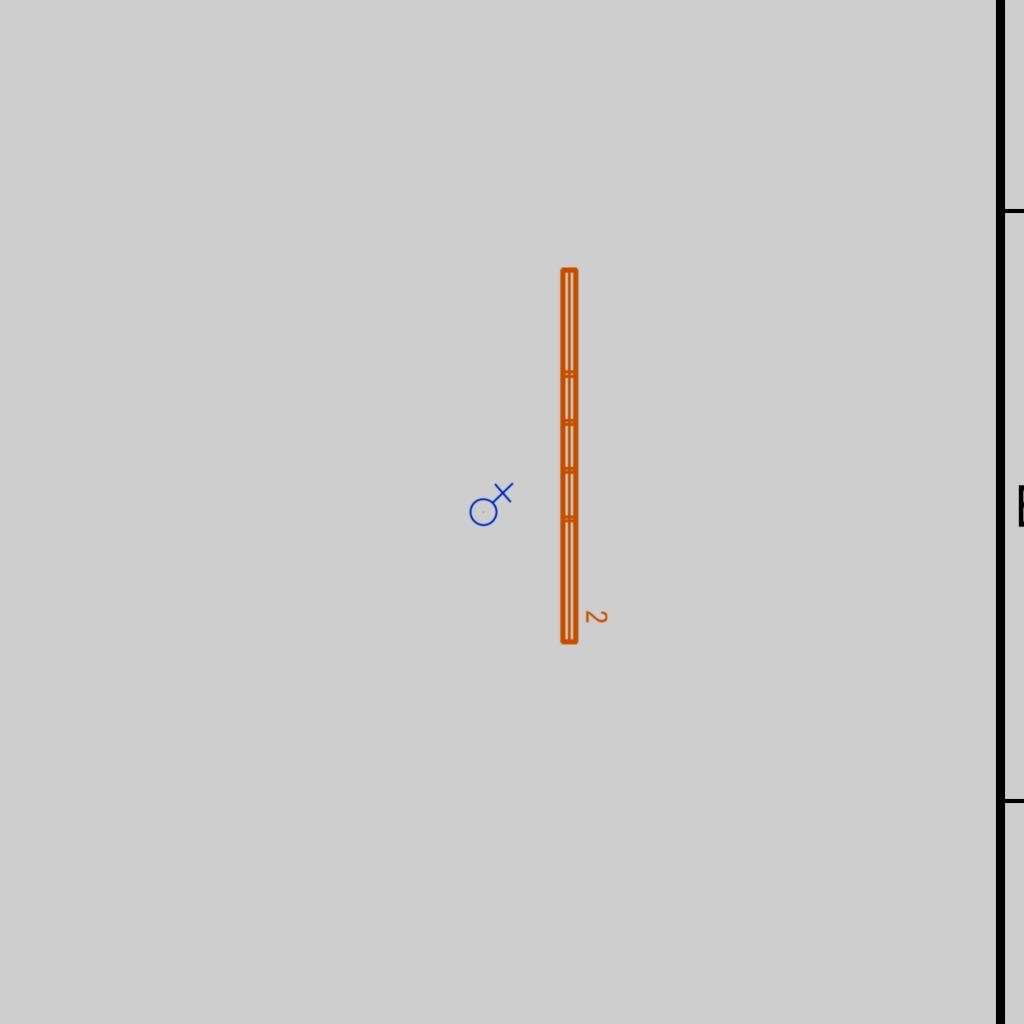Ambulanz_Pendelleuchte_LED: (554, 262, 610, 649)
Elektroanschluss_allgemein_230V_Geraeteanschlussdose_230V: (465, 480, 514, 527)
